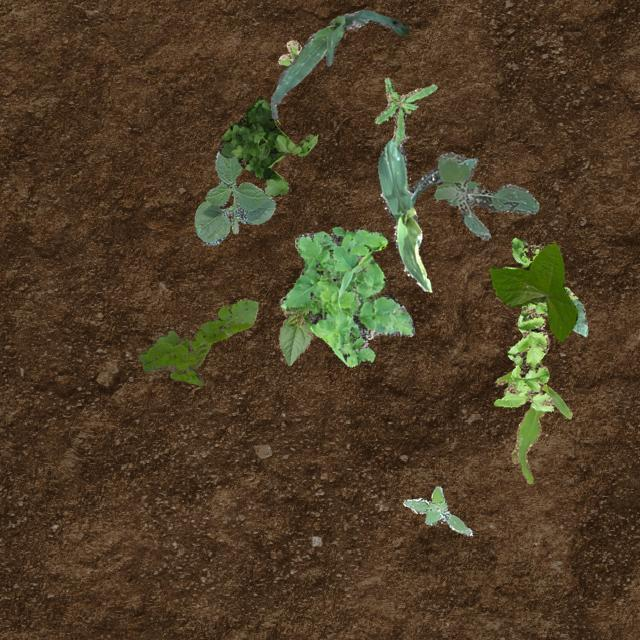crop: (270, 8, 408, 118), (376, 134, 442, 290), (488, 241, 576, 341), (494, 370, 572, 482), (193, 150, 274, 243), (278, 306, 312, 364), (570, 298, 586, 336)
weed: (278, 226, 414, 366), (494, 237, 576, 410), (138, 298, 256, 384), (218, 94, 316, 196), (433, 150, 538, 238), (374, 76, 436, 144), (402, 484, 472, 534), (276, 40, 302, 66)
